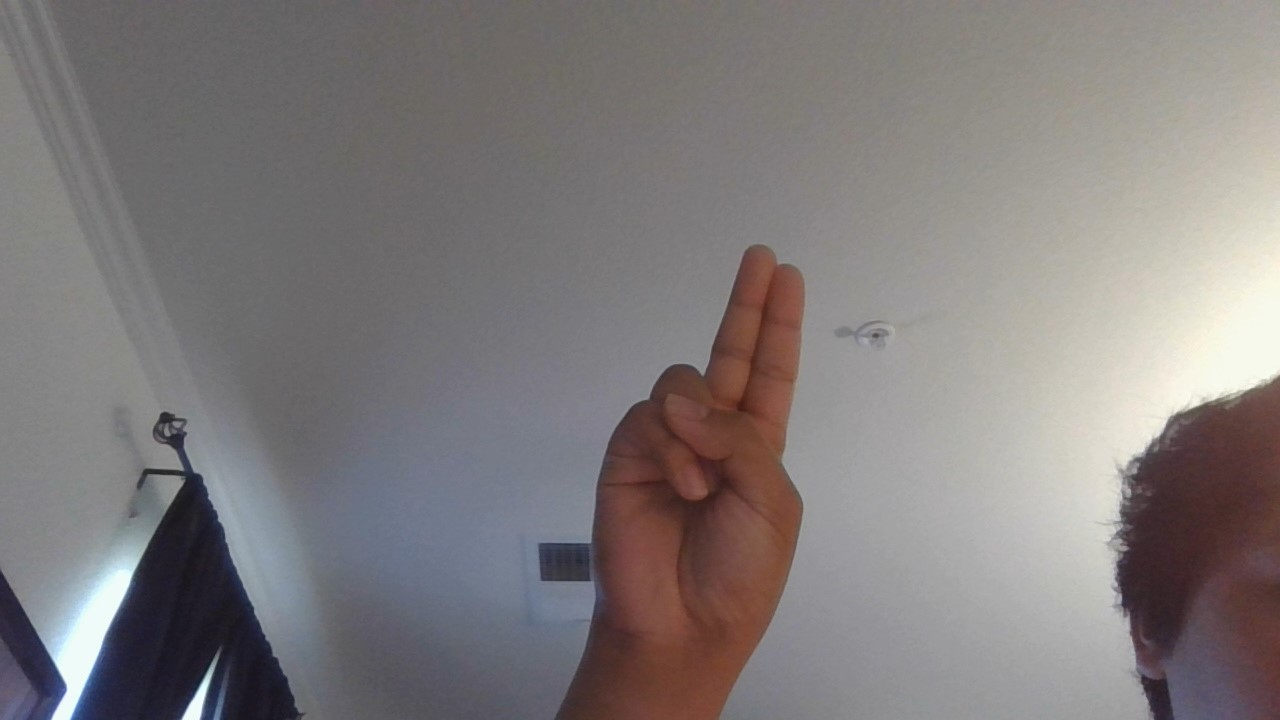u: (574, 221, 839, 669)
